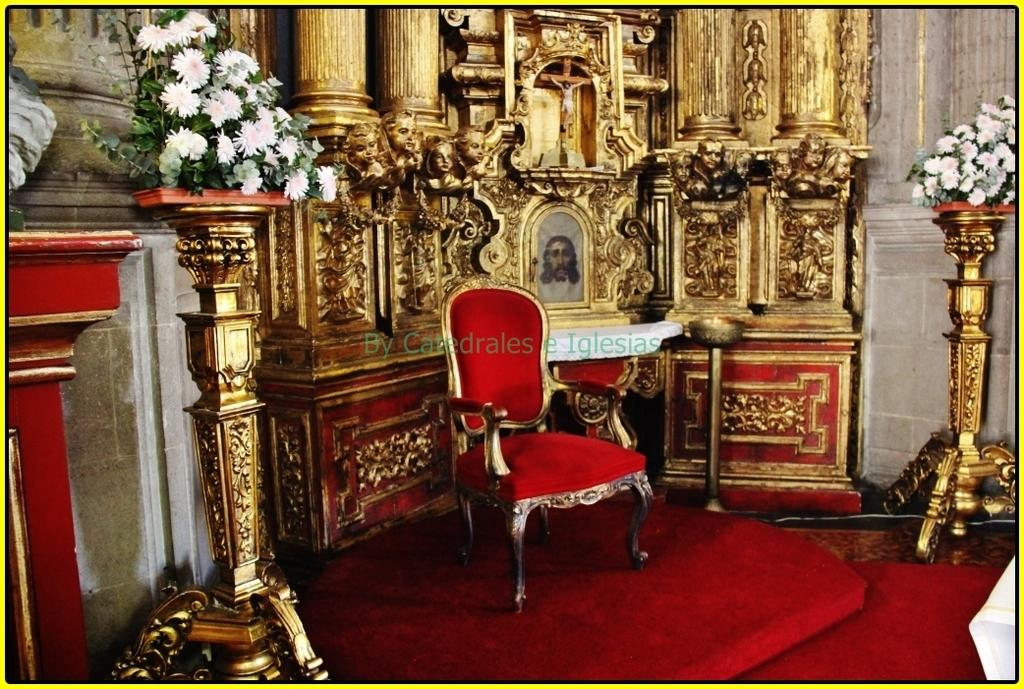Chair: (430, 290, 639, 609)
